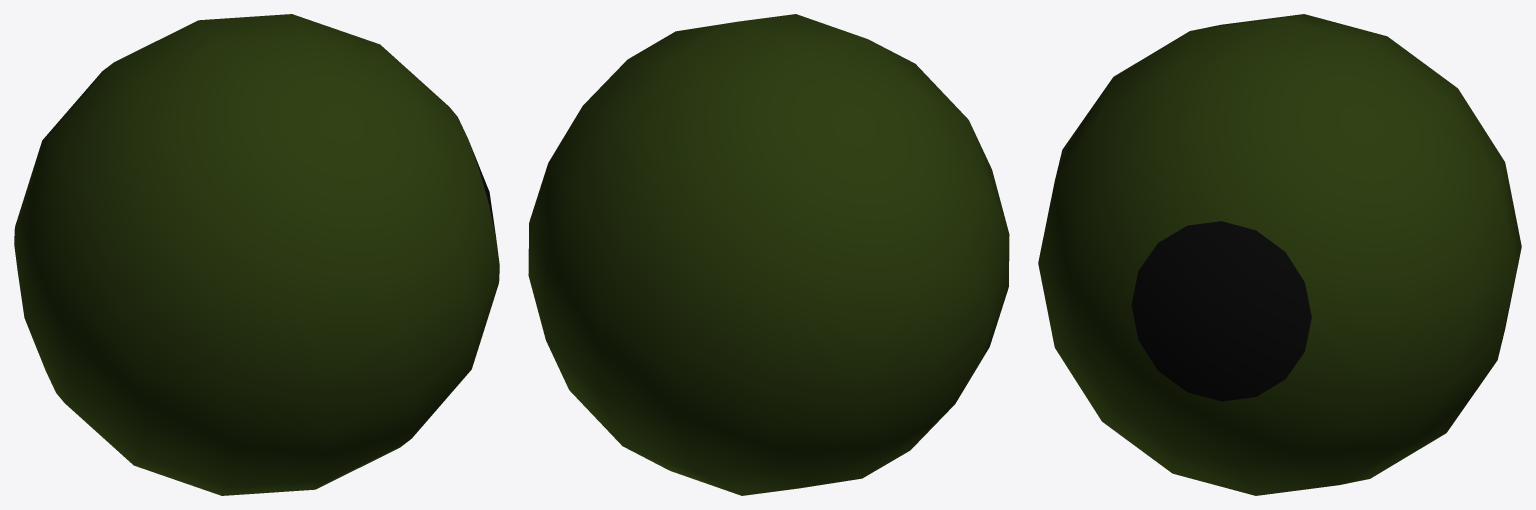
Rendered from chameleon_eye.obj.
3 views of the same model, side by side, from view 1: azimuth 30°, elevation 25°; view 2: azimuth 150°, elevation 25°; view 3: azimuth 270°, elevation 25° (orthographic).
Visible parts, largest first — view 1: eye; view 2: eye; view 3: eye.
Boxes of the visible parts, x1,y1,x2,y2 form: eye: (14, 14, 499, 495); eye: (528, 14, 1009, 495); eye: (1038, 14, 1521, 495).
Bounding box in the file's own units: 0.0172 × 0.017 × 0.0172.
